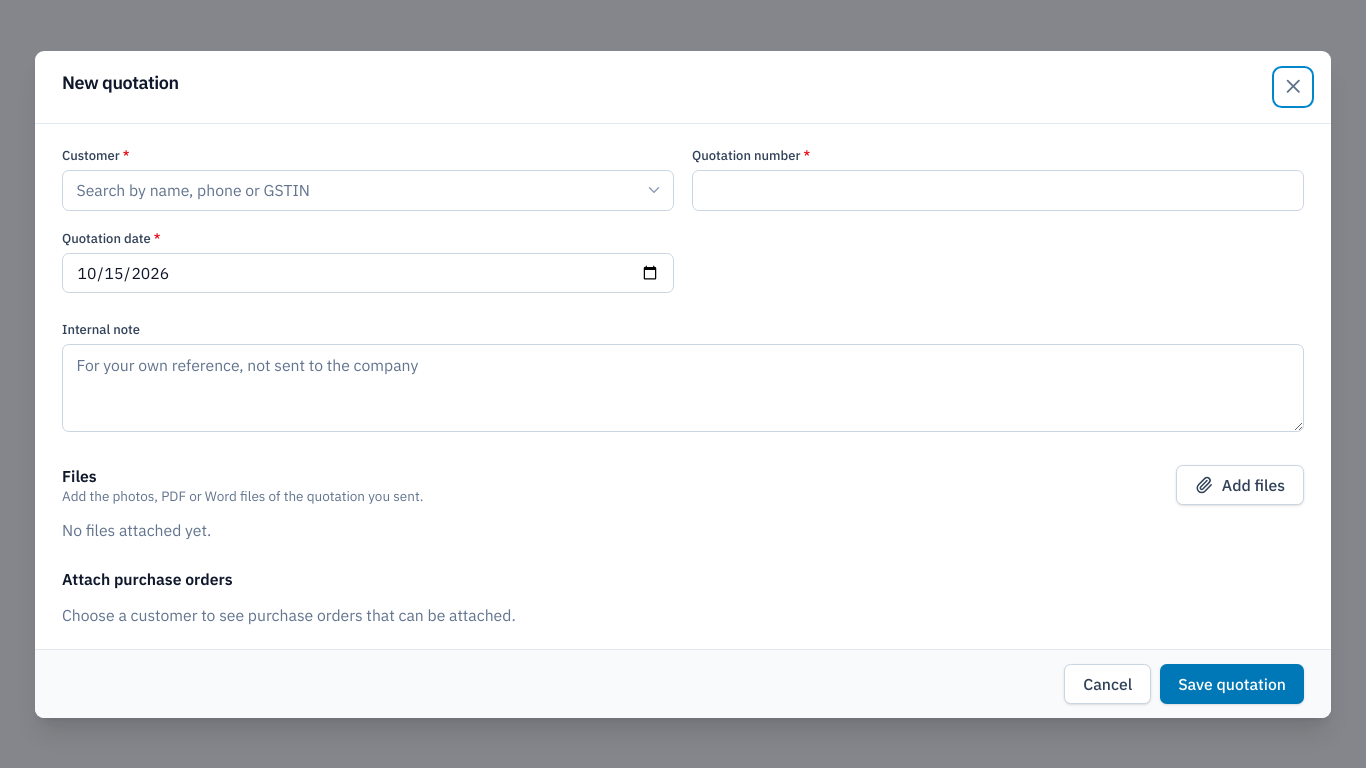
a new quotation › lists the customer's orders with their dates and invoice counts
What coordinates should you click on to do the following:
click the dropdown named "Customer"
I would click on:
 (368, 190)
Its box is [62, 170, 674, 210].
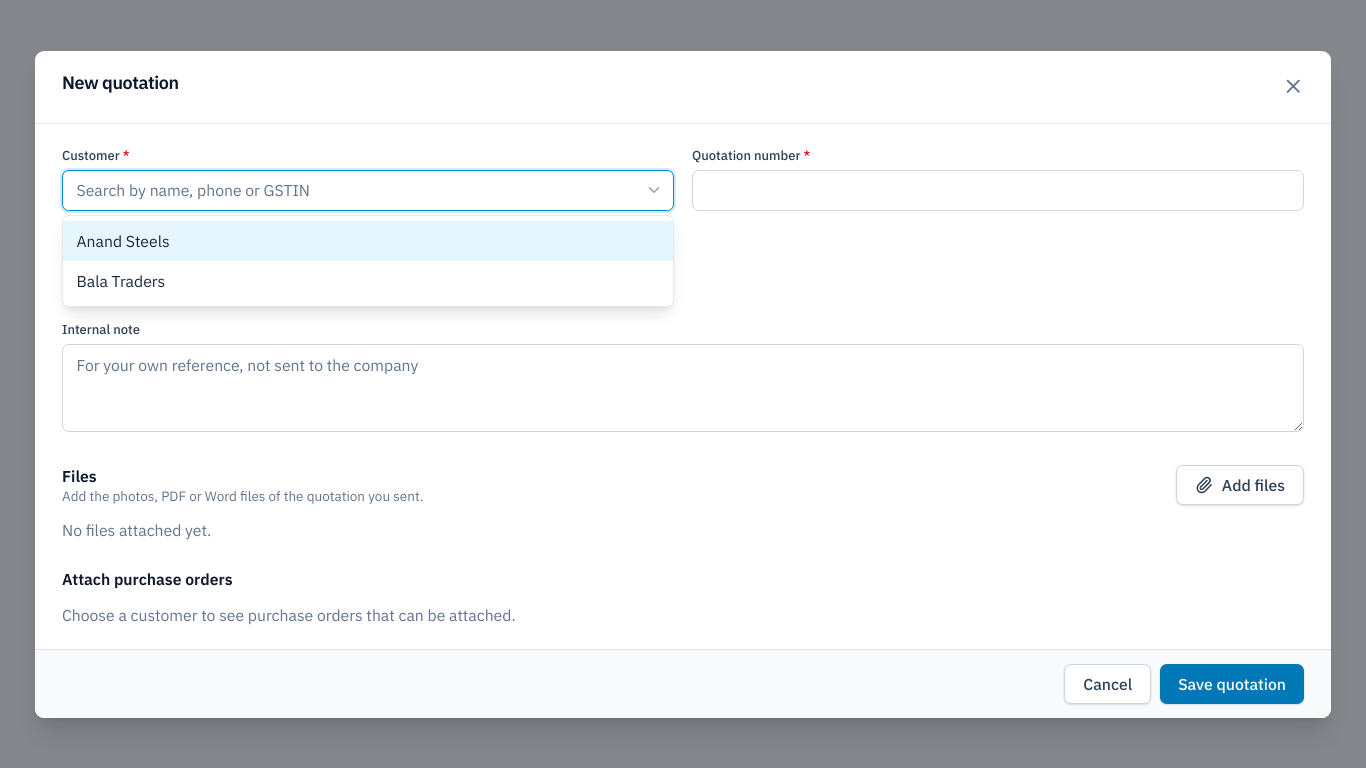
What coordinates should you click on to do the following:
click the option "Anand Steels"
I would click on:
 (123, 240)
Its box is [63, 220, 673, 261].
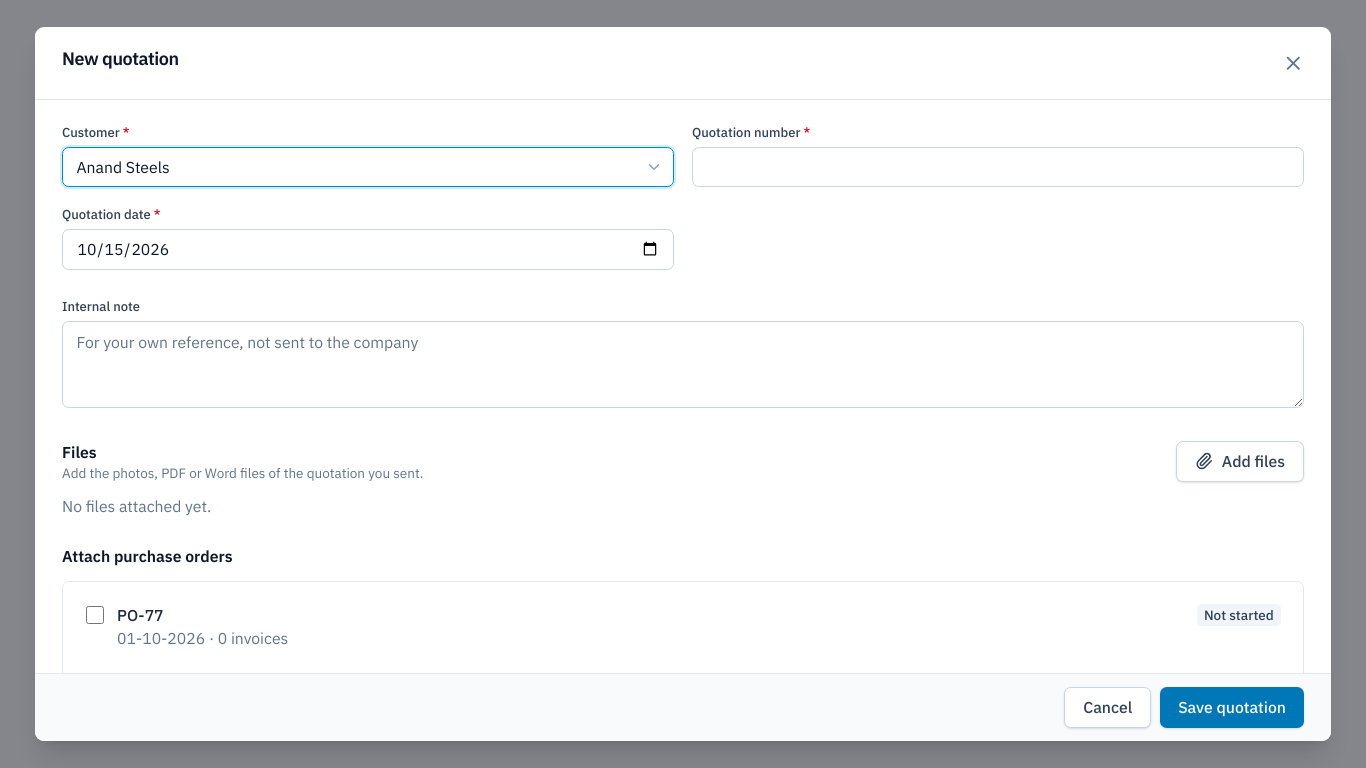
expect the text "01-10-2026 · 0 invoices" is shown: met, box [117, 626, 288, 649]
